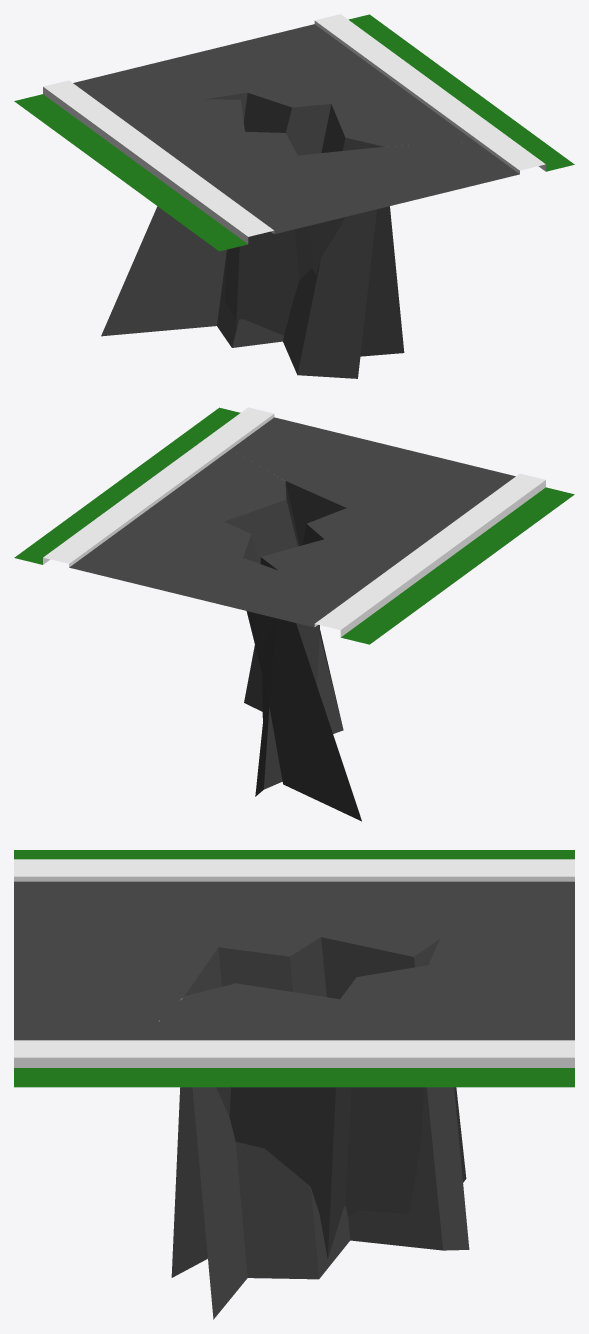
The model's file is roadStraightBroken.fbx.
3 views of the same model, one above another, from view 1: azimuth 30°, elevation 25°; view 2: azimuth 150°, elevation 25°; view 3: azimuth 270°, elevation 25° (orthographic). The views are drawn at different scales.
Parts seen in each view (by area): view 1: roadStraightBroken; view 2: roadStraightBroken; view 3: roadStraightBroken.
Boxes of the visible parts, x1=… form: roadStraightBroken: x1=14, y1=14, x2=574, y2=378; roadStraightBroken: x1=14, y1=407, x2=574, y2=821; roadStraightBroken: x1=14, y1=850, x2=574, y2=1319.
Bounding box in the file's own units: 1000 × 1000 × 606.
